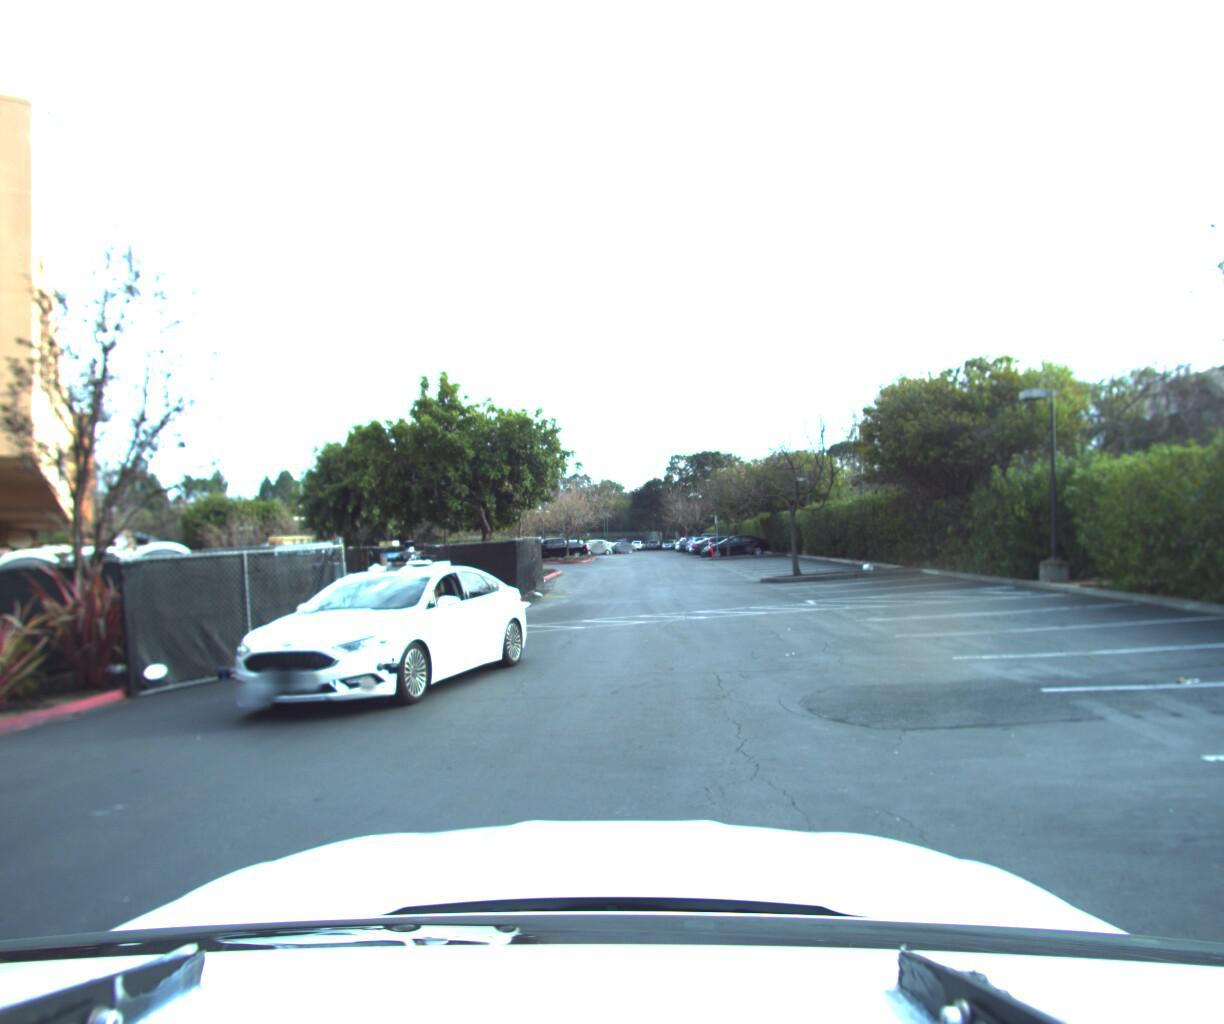car: (190, 528, 539, 722)
